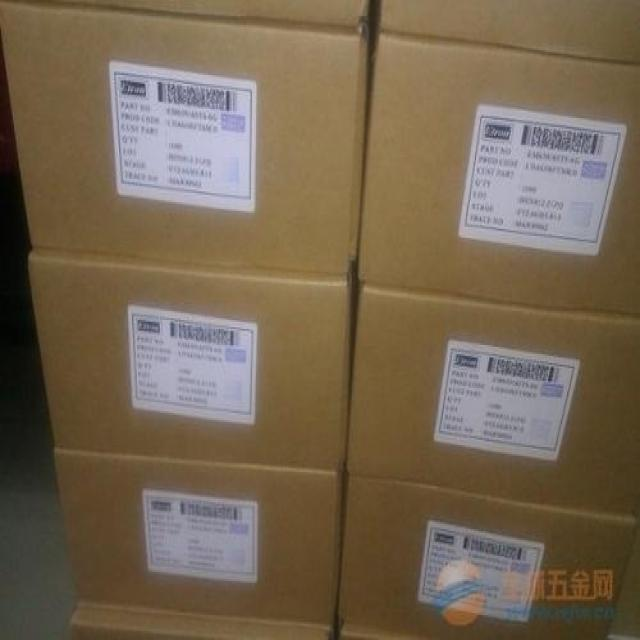box: (0, 1, 373, 275), (357, 30, 639, 315), (26, 251, 353, 473), (346, 280, 639, 511), (53, 447, 345, 626), (337, 474, 635, 638), (376, 0, 639, 63), (25, 1, 373, 34), (67, 602, 332, 638), (337, 622, 429, 638)
